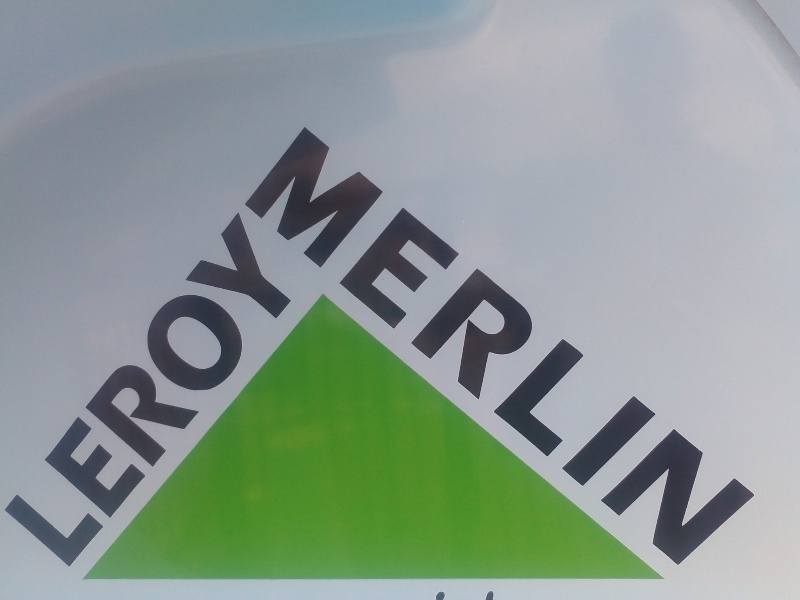text: (305, 127, 320, 566), (321, 127, 336, 566), (337, 127, 352, 566), (353, 127, 368, 566), (369, 127, 384, 566), (385, 127, 400, 566), (401, 127, 416, 566), (417, 127, 432, 566), (433, 127, 448, 566), (449, 127, 464, 566), (465, 127, 480, 566), (481, 127, 496, 566), (497, 127, 512, 566), (513, 127, 528, 566), (529, 127, 544, 566), (545, 127, 560, 566), (561, 127, 576, 566), (577, 127, 592, 566), (593, 127, 608, 566), (609, 127, 624, 566), (625, 127, 640, 566), (641, 127, 656, 566), (657, 127, 672, 566), (673, 127, 688, 566), (689, 127, 704, 566), (705, 127, 720, 566), (721, 127, 736, 566), (737, 127, 752, 566), (17, 209, 32, 569), (33, 209, 48, 569), (49, 209, 64, 569), (65, 209, 80, 569), (81, 209, 96, 569), (97, 209, 112, 569), (113, 209, 128, 569), (129, 209, 144, 569), (145, 209, 160, 569), (161, 209, 176, 569), (177, 209, 192, 569), (193, 209, 208, 569), (209, 209, 224, 569), (225, 209, 240, 569), (241, 209, 256, 569), (257, 209, 272, 569), (273, 209, 288, 569), (2, 209, 16, 569), (289, 209, 293, 569), (753, 127, 756, 566)
